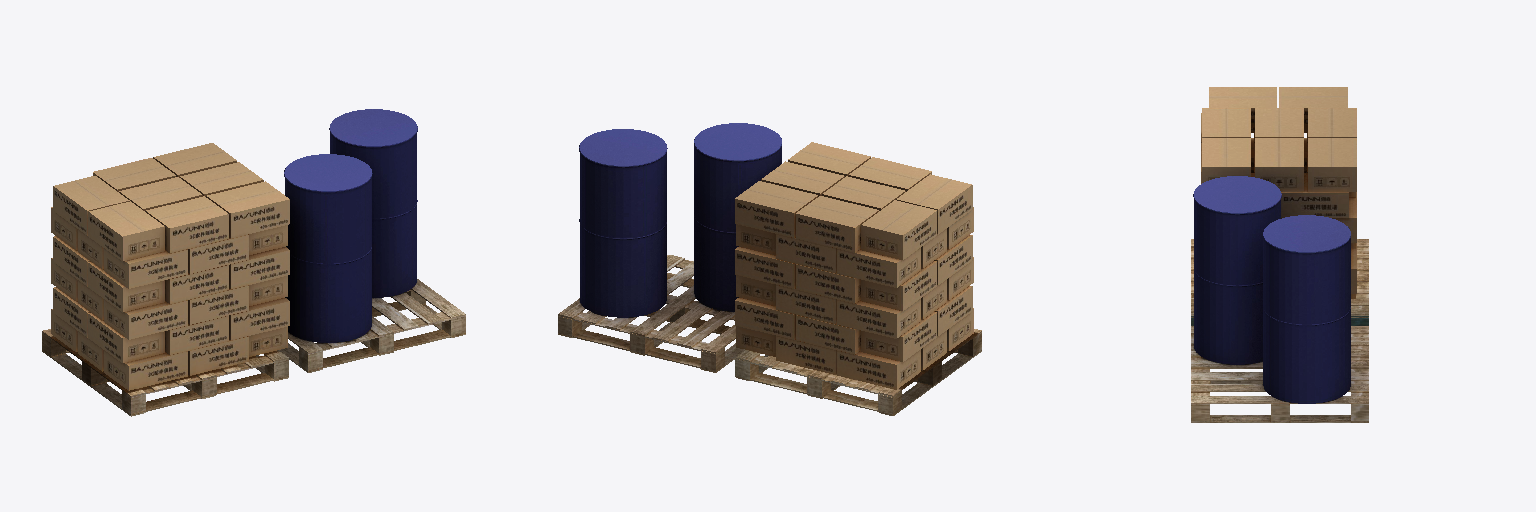
3 renders of one model, left to right at view 1: azimuth 30°, elevation 25°; view 2: azimuth 150°, elevation 25°; view 3: azimuth 270°, elevation 25°, orthographic.
Visible parts, largest first — view 1: Box642, Cylinder18, Box385, Box718; view 2: Box642, Cylinder18, Box385, Box718; view 3: Cylinder18, Box642, Box385, Box718.
Part boxes in pixels (x1,y1,x2,y2): Box642: (51,143,289,390); Cylinder18: (284,109,417,342); Box385: (279,279,465,372); Box718: (42,329,288,416); Box642: (735,142,973,389); Cylinder18: (579,123,781,317); Box385: (558,255,744,372); Box718: (735,329,981,415); Cylinder18: (1193,176,1350,403); Box642: (1201,87,1356,298); Box385: (1191,326,1368,422); Box718: (1191,239,1368,325).
Size of the model in its own units: 210 by 103 by 95.92.
4 materials, 4 textured.